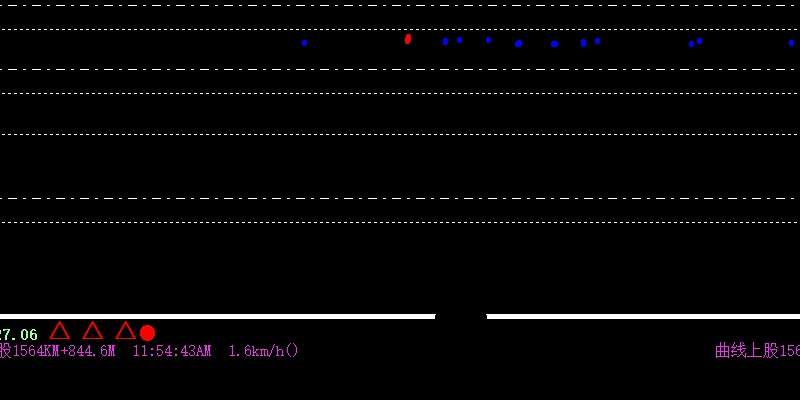circle: (139, 323, 155, 342)
face_down: (402, 21, 412, 46)
